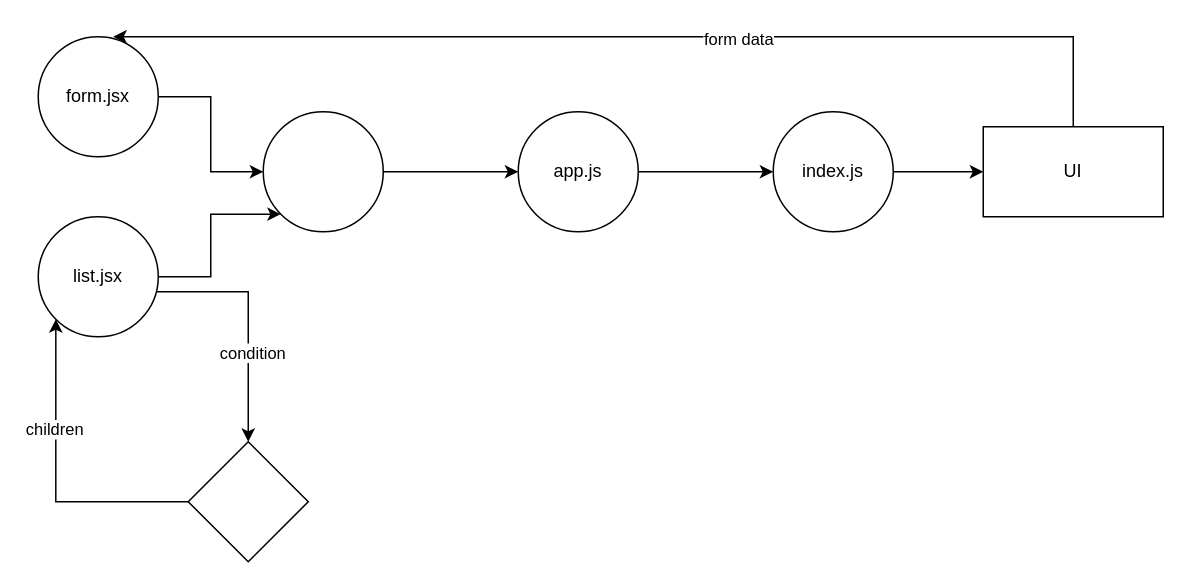
The diagram is 1190 pixels wide and 588 high, and some of its shapes have lost their labels. Each missing label, with the box of its shape:
if.jsx: (187, 440, 308, 562)
todo.jsx: (262, 110, 383, 232)
